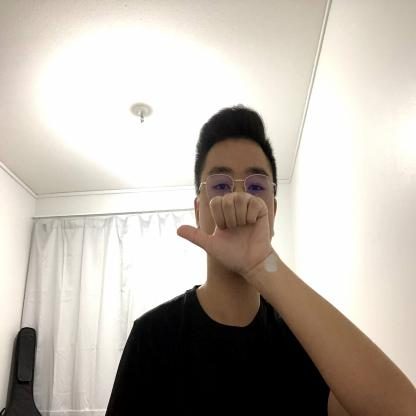right: (177, 189, 275, 279)
